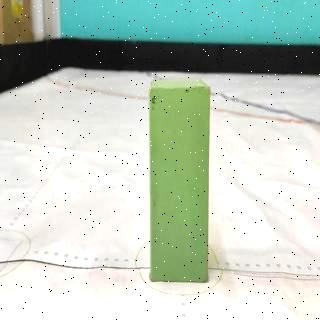greenbox: (148, 78, 211, 284)
